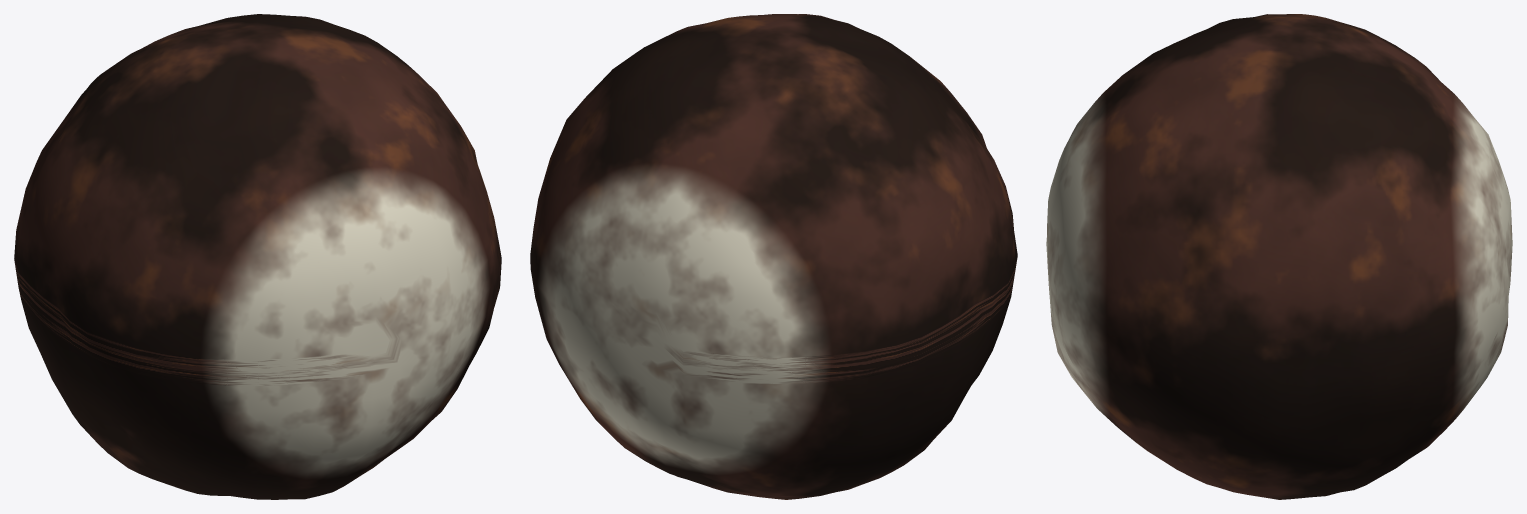
File: planet_04.glb
3 renders of one model, left to right at view 1: azimuth 30°, elevation 25°; view 2: azimuth 150°, elevation 25°; view 3: azimuth 270°, elevation 25°, orthographic.
Visible parts, largest first — view 1: Body; view 2: Body; view 3: Body.
Boxes of the visible parts, bbox=[...] form: Body: bbox=[14, 14, 501, 499]; Body: bbox=[530, 14, 1017, 499]; Body: bbox=[1046, 14, 1512, 499].
Bounding box in the file's own units: 1.9 × 1.96 × 1.89.
Materials: 1 (1 with a texture image).
